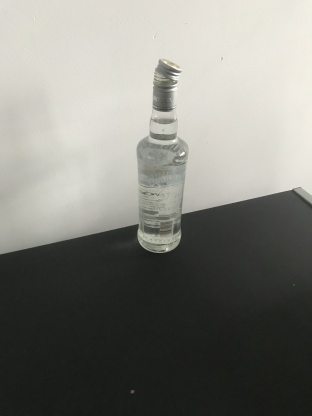nakretka: (151, 56, 182, 112)
